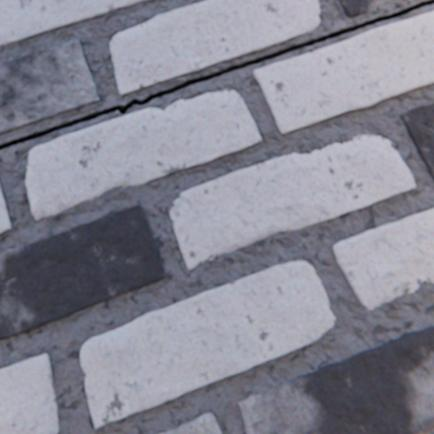brick: (80, 260, 334, 427), (169, 134, 414, 268), (26, 90, 261, 219), (0, 204, 165, 339), (252, 11, 433, 133), (237, 324, 433, 433), (110, 0, 319, 94), (332, 208, 433, 308), (0, 40, 99, 133), (0, 0, 149, 45), (0, 352, 58, 433), (399, 103, 433, 182), (153, 411, 221, 433), (338, 0, 394, 17), (0, 185, 11, 233)
crack: (0, 0, 433, 149)
